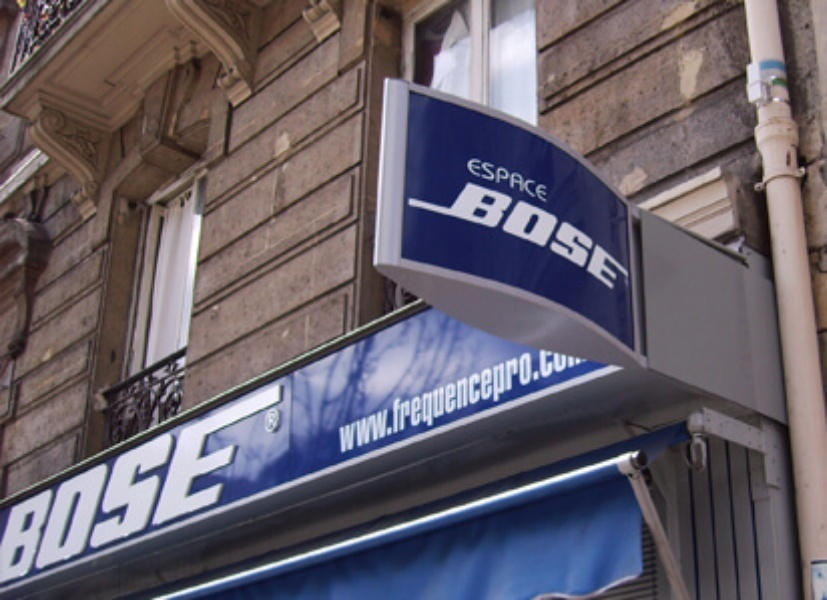text: (17, 372, 32, 584), (33, 372, 48, 584), (49, 372, 64, 584), (65, 372, 80, 584), (81, 372, 96, 584), (97, 372, 112, 584), (113, 372, 128, 584), (129, 372, 144, 584), (145, 372, 160, 584), (161, 372, 176, 584), (177, 372, 192, 584), (193, 372, 208, 584), (209, 372, 224, 584), (225, 372, 240, 584), (241, 372, 256, 584), (257, 372, 272, 584), (273, 372, 288, 584), (3, 372, 16, 584), (289, 372, 300, 584), (353, 344, 368, 460), (369, 344, 384, 460), (385, 344, 400, 460), (401, 344, 416, 460), (417, 344, 432, 460), (433, 344, 448, 460), (449, 344, 464, 460), (465, 344, 480, 460), (481, 344, 496, 460), (497, 344, 512, 460), (513, 344, 528, 460), (529, 344, 544, 460), (545, 344, 560, 460), (561, 344, 576, 460), (577, 344, 592, 460), (481, 175, 496, 289), (497, 175, 512, 289), (513, 175, 528, 289), (529, 175, 544, 289), (545, 175, 560, 289), (561, 175, 576, 289), (577, 175, 592, 289), (593, 175, 608, 289), (609, 175, 624, 289), (625, 175, 640, 289), (338, 344, 352, 460), (481, 153, 496, 203), (497, 153, 512, 203), (513, 153, 528, 203), (529, 153, 544, 203), (470, 153, 480, 203), (593, 344, 597, 460), (641, 175, 645, 289), (267, 412, 272, 426), (545, 153, 546, 203), (273, 412, 275, 426)
